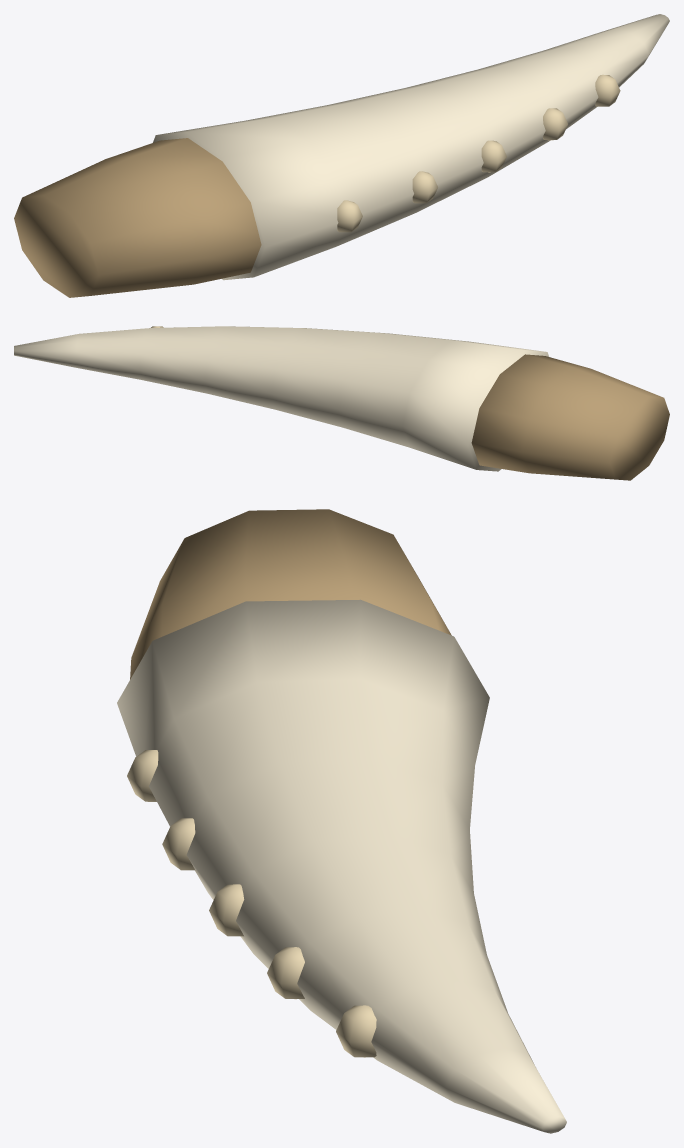
The model's file is fossil-dente.glb.
The picture shows the model from 3 angles, top to bottom: view 1: azimuth 30°, elevation 25°; view 2: azimuth 150°, elevation 25°; view 3: azimuth 270°, elevation 25°; orthographic projection. The views are drawn at different scales.
Parts seen in each view (by area): view 1: fossil-dente; view 2: fossil-dente; view 3: fossil-dente.
Boxes of the visible parts, x1,y1,x2,y2 form: fossil-dente: (14,14,669,297); fossil-dente: (14,326,669,480); fossil-dente: (117,509,566,1133).
Size of the model in its own units: 0.3634 by 0.0613 by 0.1254.
